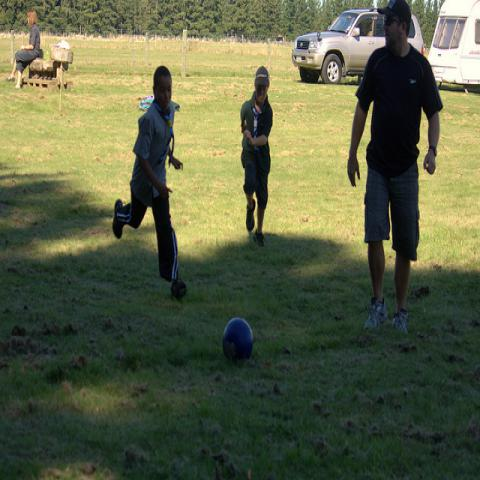truck: (291, 7, 426, 86)
